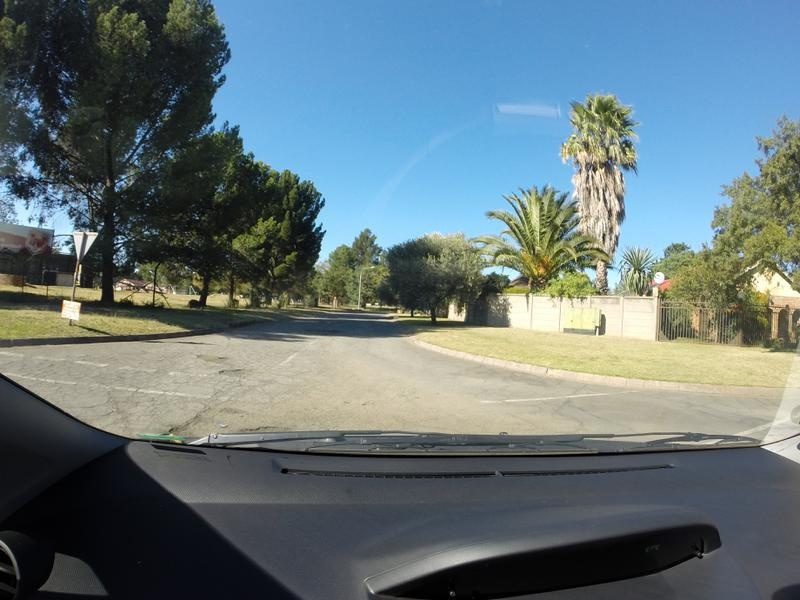pothole: (235, 417, 289, 430), (190, 352, 230, 363), (215, 366, 243, 379)
